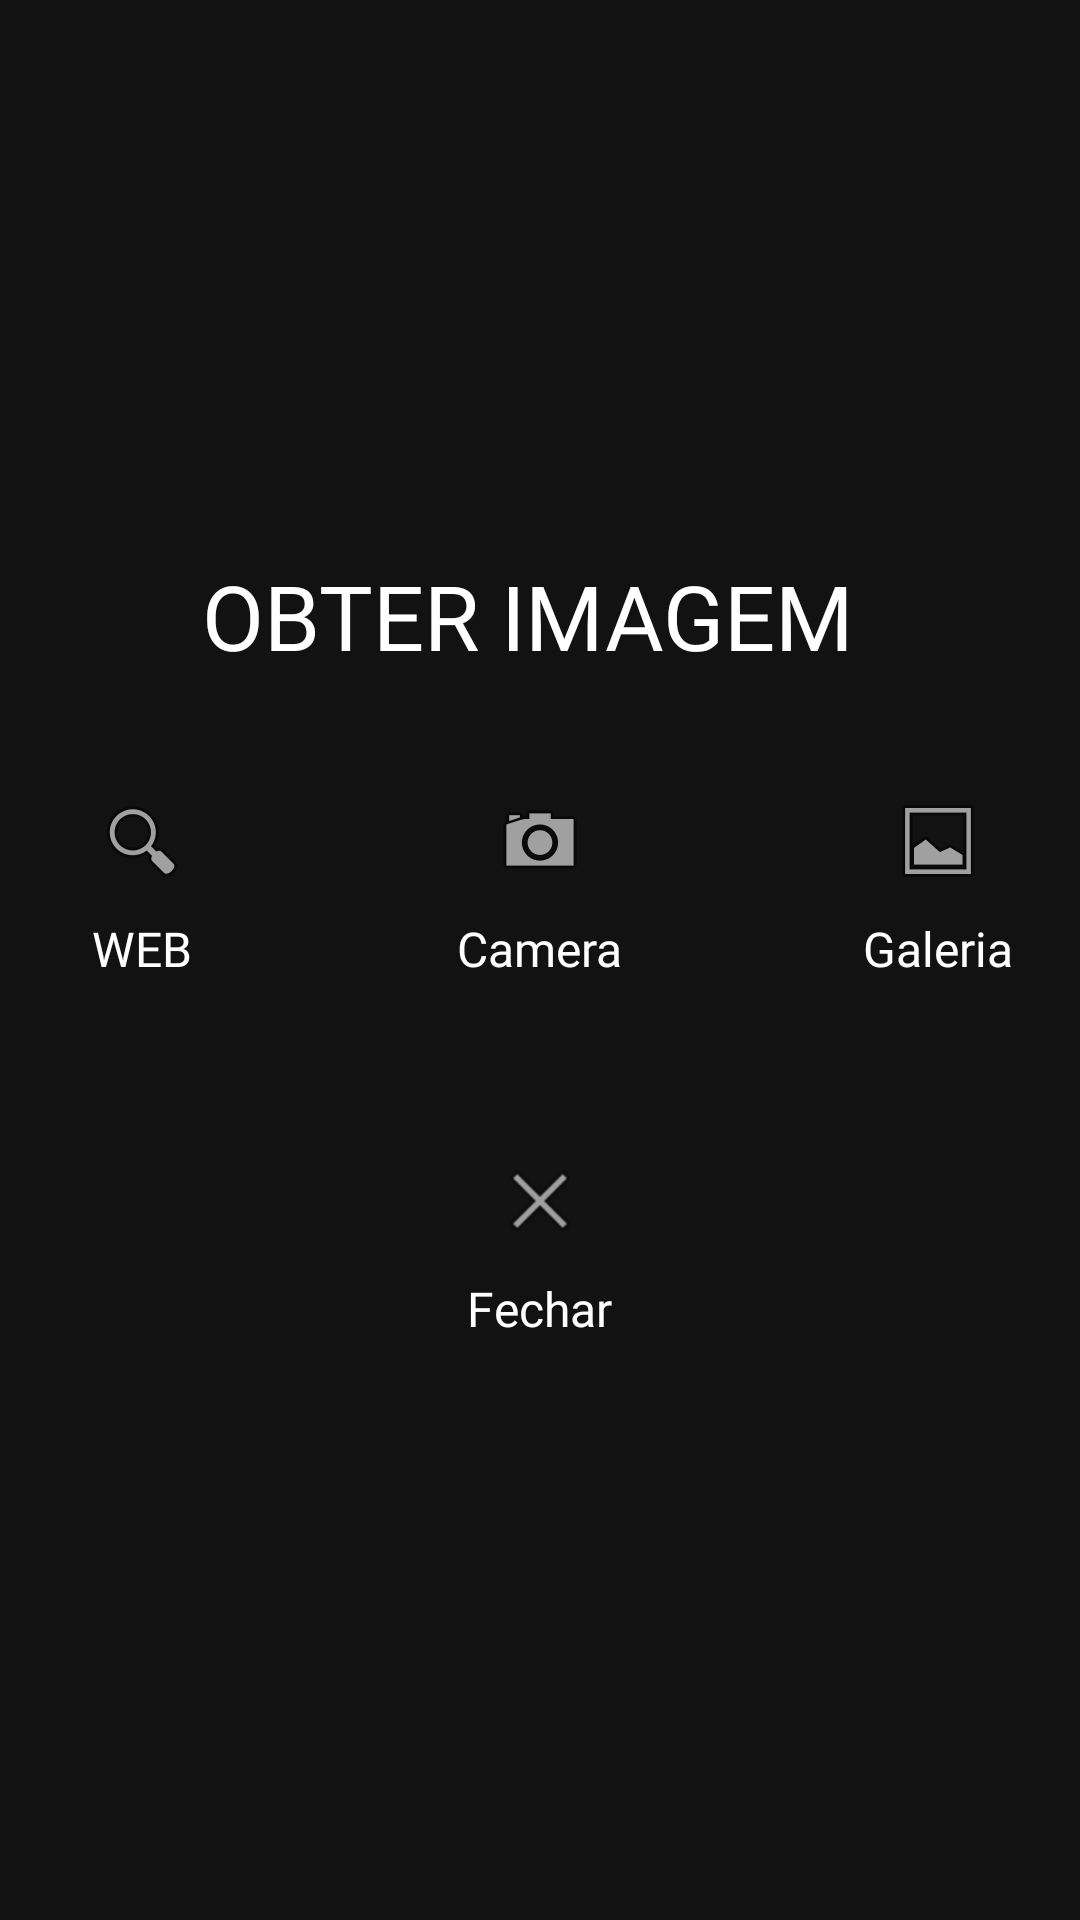

Icons on this 1080 × 1920 Android screen, each with its box as (x1, y1, x2, y2):
close clear cancel: (513, 1174, 567, 1228)
gallery: (905, 808, 971, 874)
search: (109, 809, 174, 874)
